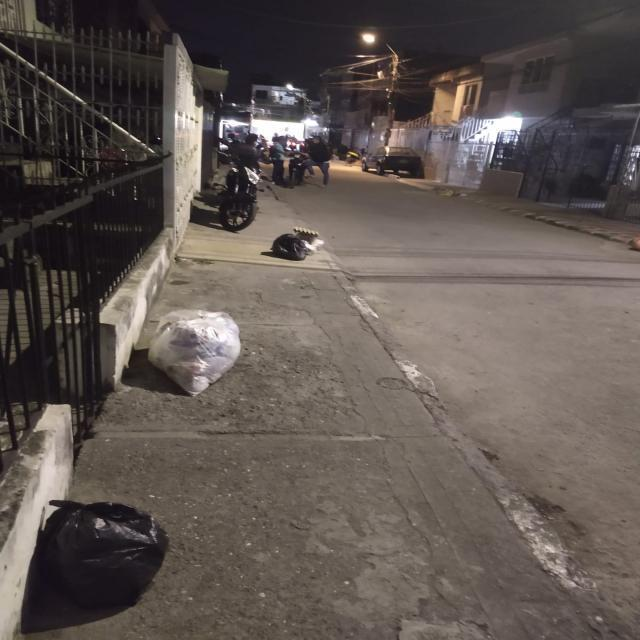Trashbag: (38, 494, 172, 610), (276, 230, 314, 262)
